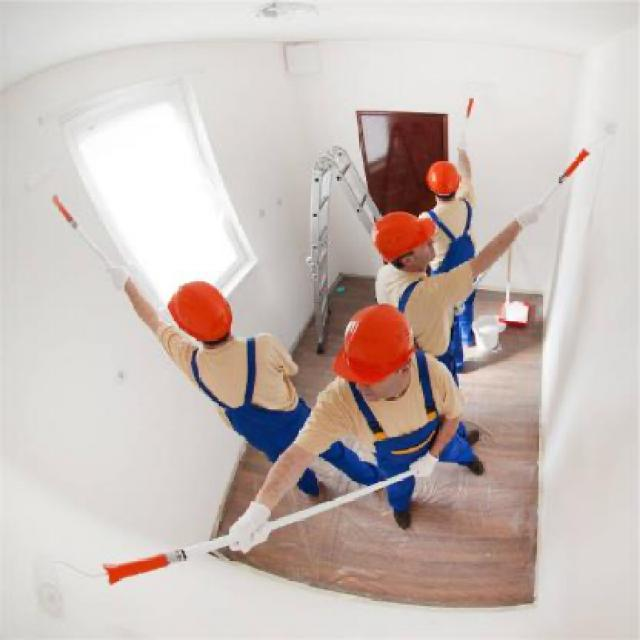helmet: (334, 294, 420, 418), (159, 270, 246, 368), (369, 206, 446, 283), (418, 152, 469, 212)
